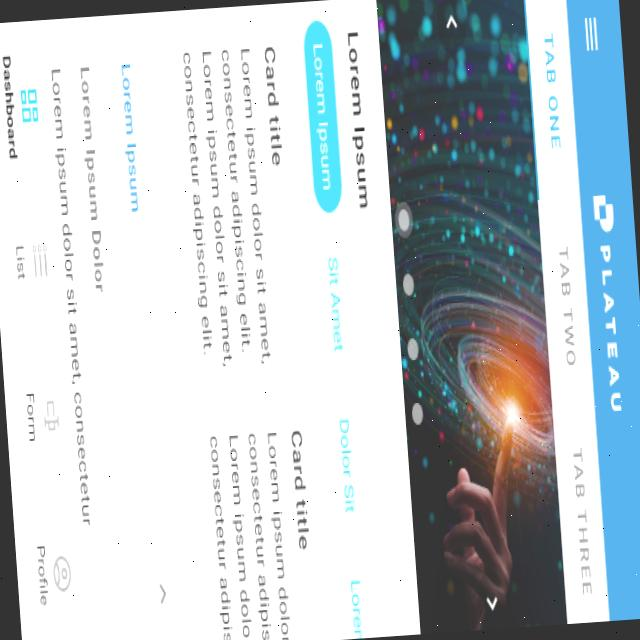QLabel: (176, 38, 274, 372), (206, 420, 293, 640), (343, 19, 372, 210), (290, 421, 312, 550), (262, 39, 284, 166), (0, 48, 19, 161), (34, 542, 50, 607), (24, 386, 39, 442), (14, 238, 26, 282)
VAppBar: (565, 0, 640, 620)
VBottomNavigation: (0, 18, 88, 640)
VBtn: (0, 38, 45, 169), (30, 532, 78, 614), (18, 373, 66, 451), (8, 224, 55, 294)
VCard: (160, 20, 314, 394), (189, 402, 333, 640)
VCarousel: (376, 0, 564, 633)
VChip: (301, 19, 344, 213), (328, 391, 366, 535), (318, 232, 356, 374), (340, 554, 374, 638)
VExpansionPanels: (44, 31, 187, 640)
VIcon: (28, 237, 51, 280), (40, 391, 61, 437), (581, 8, 600, 55), (18, 84, 39, 124), (51, 550, 72, 590), (584, 15, 598, 52)
VImg: (588, 188, 628, 414)
VTabs: (522, 0, 605, 623)
